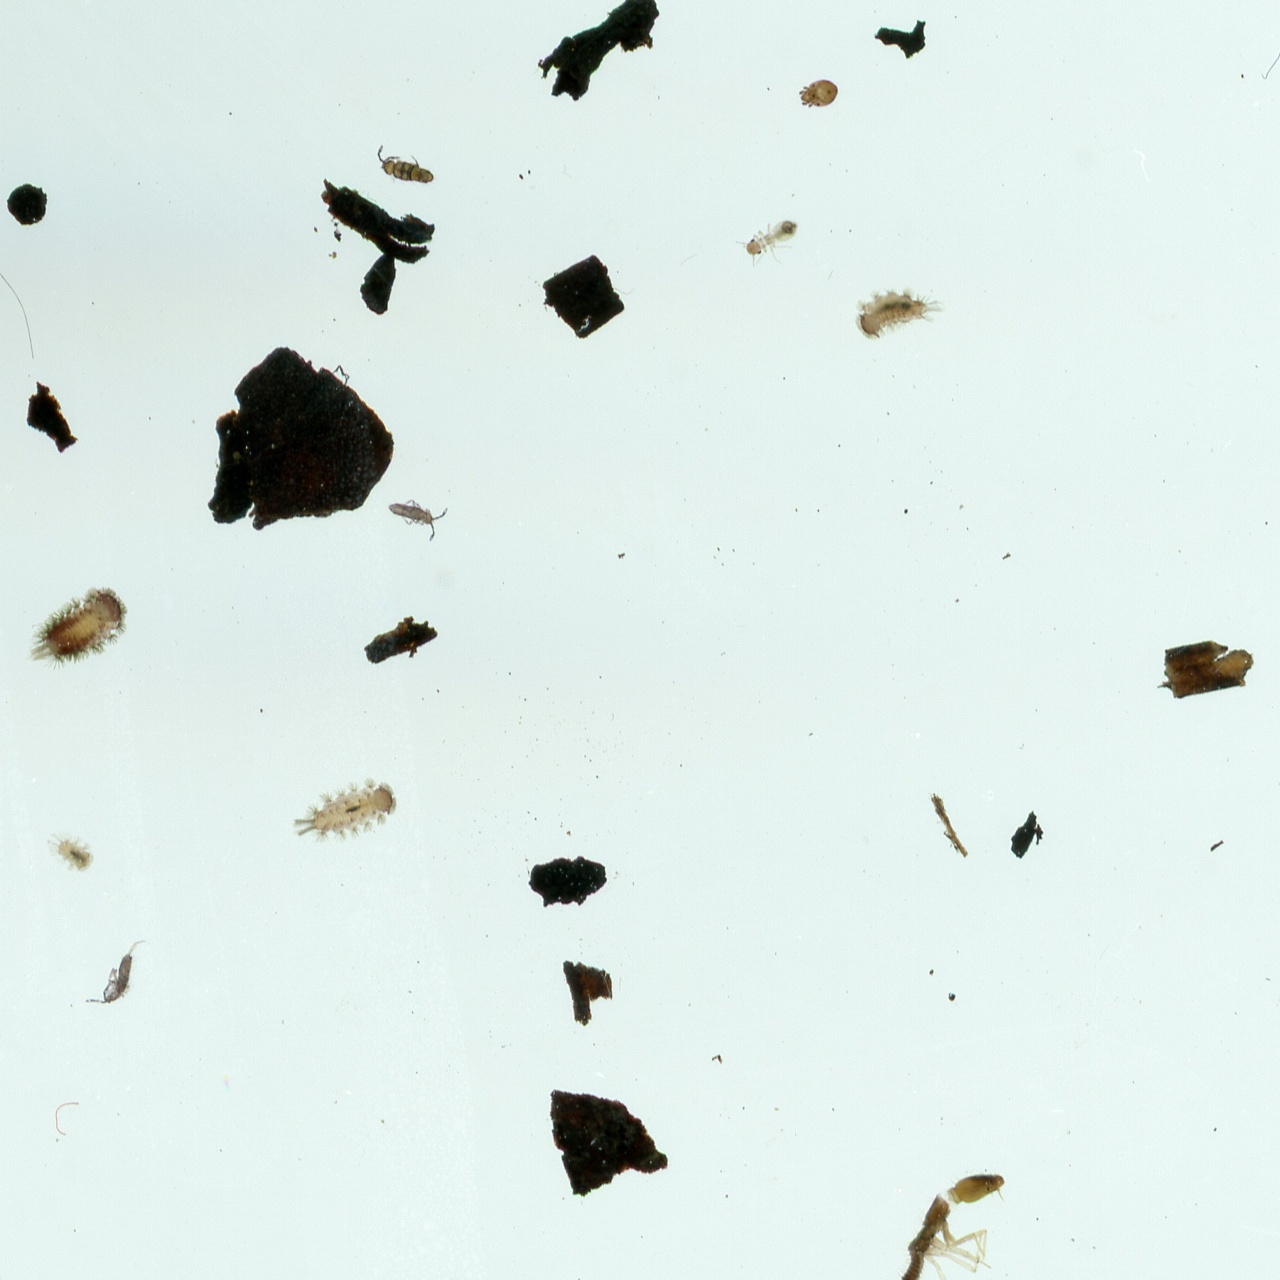arthropod: (3, 566, 151, 697), (869, 1165, 1013, 1280), (276, 762, 412, 866), (80, 924, 159, 1019), (849, 279, 948, 345), (732, 205, 805, 272), (376, 491, 460, 549), (375, 141, 437, 188), (39, 828, 98, 877), (795, 76, 842, 111)
